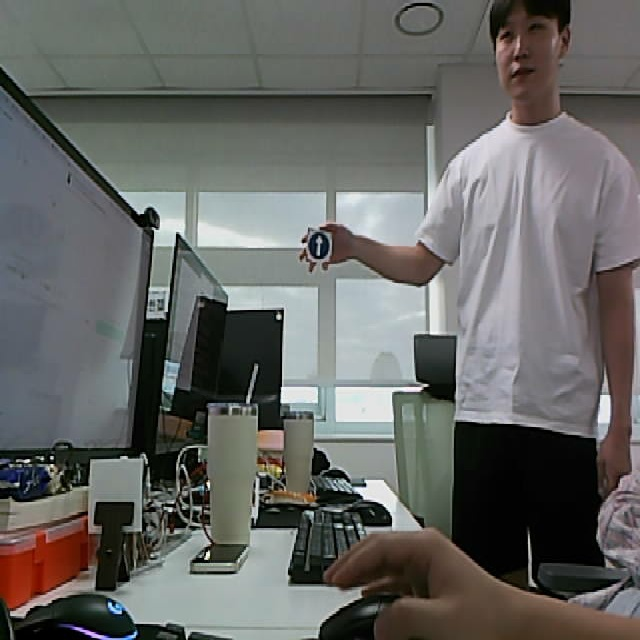straight: (306, 227, 331, 262)
